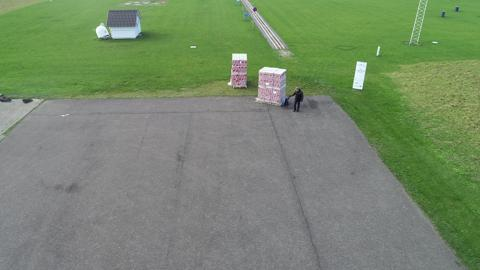RockwoolPallet: (229, 52, 248, 89)
